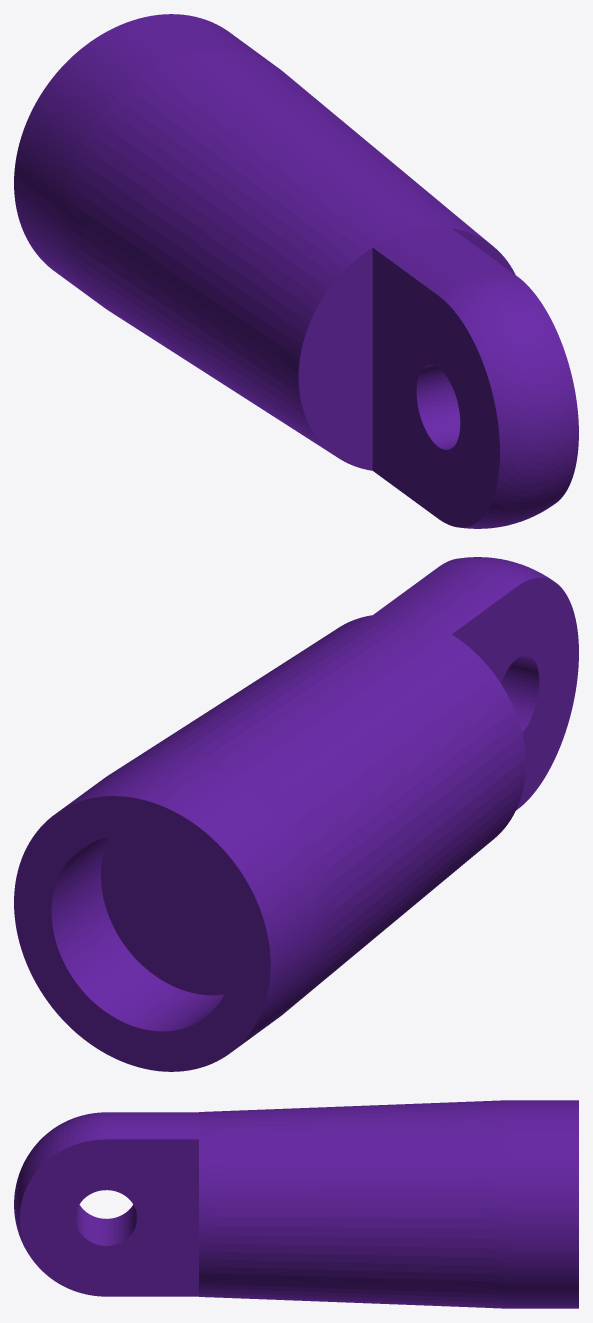
3 views of the same model, one above another, from view 1: azimuth 30°, elevation 25°; view 2: azimuth 150°, elevation 25°; view 3: azimuth 270°, elevation 25° (orthographic). The views are drawn at different scales.
Visible parts, largest first — view 1: node; view 2: node; view 3: node.
Part boxes in pixels (left/top/right/bottom): node: left=14, top=14, right=578, bottom=528; node: left=14, top=557, right=578, bottom=1071; node: left=14, top=1100, right=578, bottom=1308.
Size of the model in its own units: 0.0672 by 0.0672 by 0.1819.
